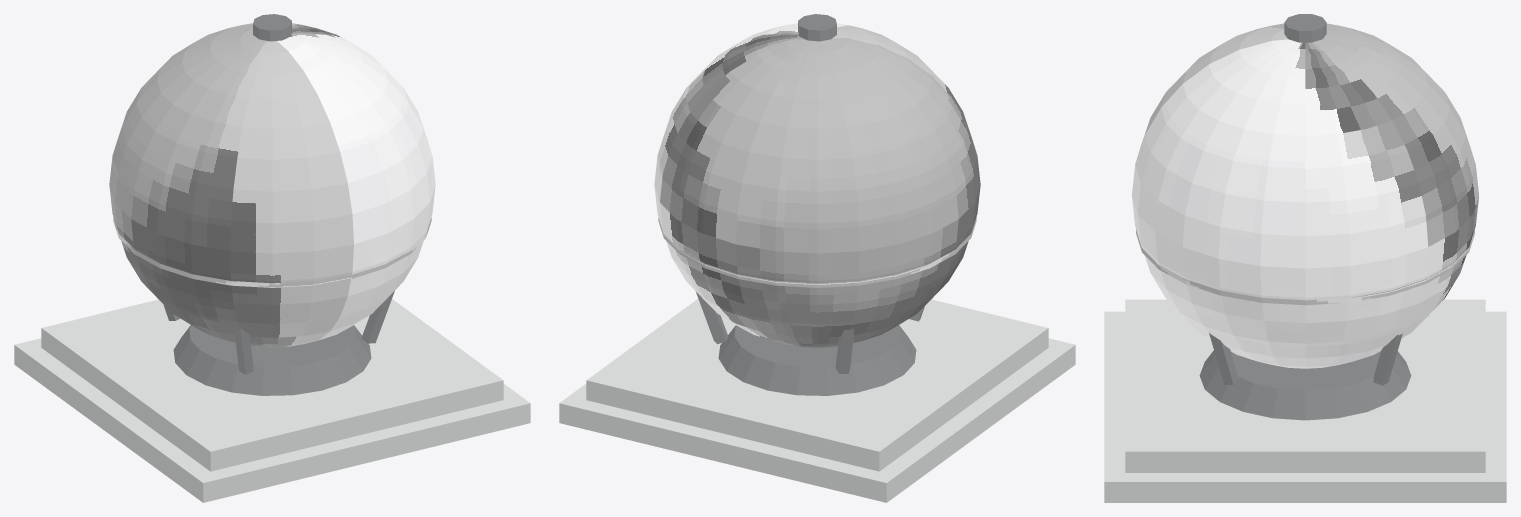
The model's file is Building_SculptureGrand__B.glb.
3 views of the same model, side by side, from view 1: azimuth 30°, elevation 25°; view 2: azimuth 150°, elevation 25°; view 3: azimuth 270°, elevation 25° (orthographic). The views are drawn at different scales.
Parts seen in each view (by area): view 1: SculptureGrand__B; view 2: SculptureGrand__B; view 3: SculptureGrand__B.
Boxes of the visible parts, x1,y1,x2,y2 form: SculptureGrand__B: (14, 14, 530, 502); SculptureGrand__B: (559, 14, 1075, 502); SculptureGrand__B: (1104, 14, 1506, 502).
Bounding box in the file's own units: 1.9 × 2.06 × 1.9.
1 material, 1 textured.
